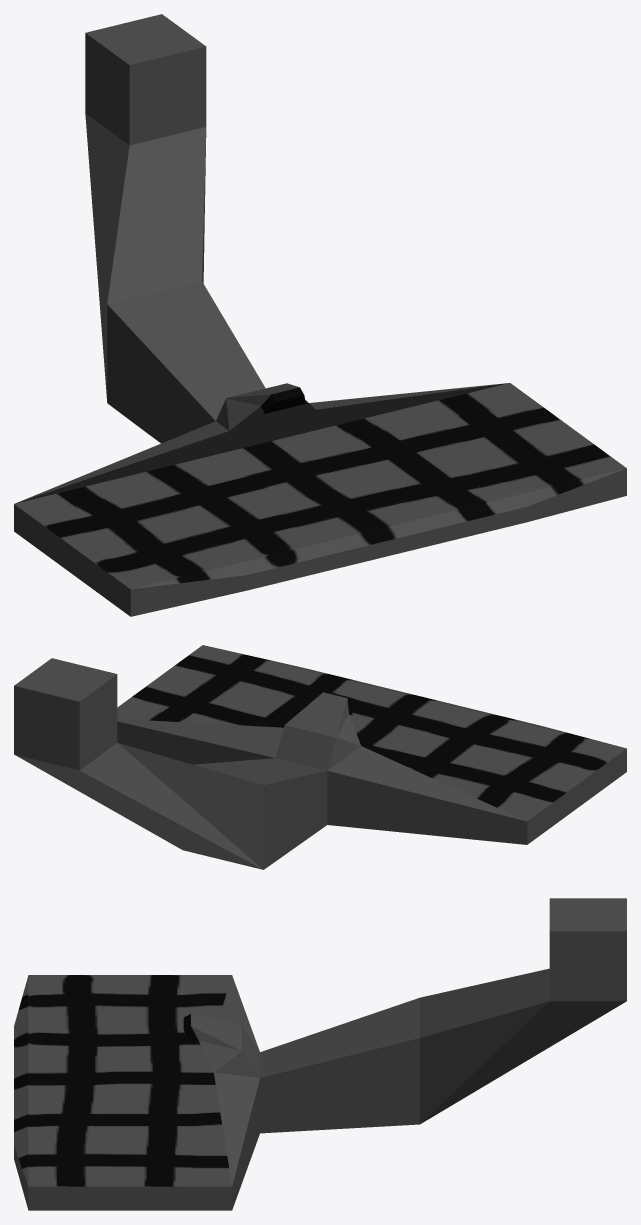
The model's file is shoulder2.obj.
3 views of the same model, one above another, from view 1: azimuth 30°, elevation 25°; view 2: azimuth 150°, elevation 25°; view 3: azimuth 270°, elevation 25° (orthographic). The views are drawn at different scales.
Visible parts, largest first — view 1: Shoulder2; view 2: Shoulder2; view 3: Shoulder2.
Part boxes in pixels (bbox=[...]): Shoulder2: bbox=[14, 14, 626, 616]; Shoulder2: bbox=[14, 645, 626, 869]; Shoulder2: bbox=[14, 898, 626, 1210].
Size of the model in its own units: 3.21 by 1.72 by 3.93.
1 material, 1 textured.
